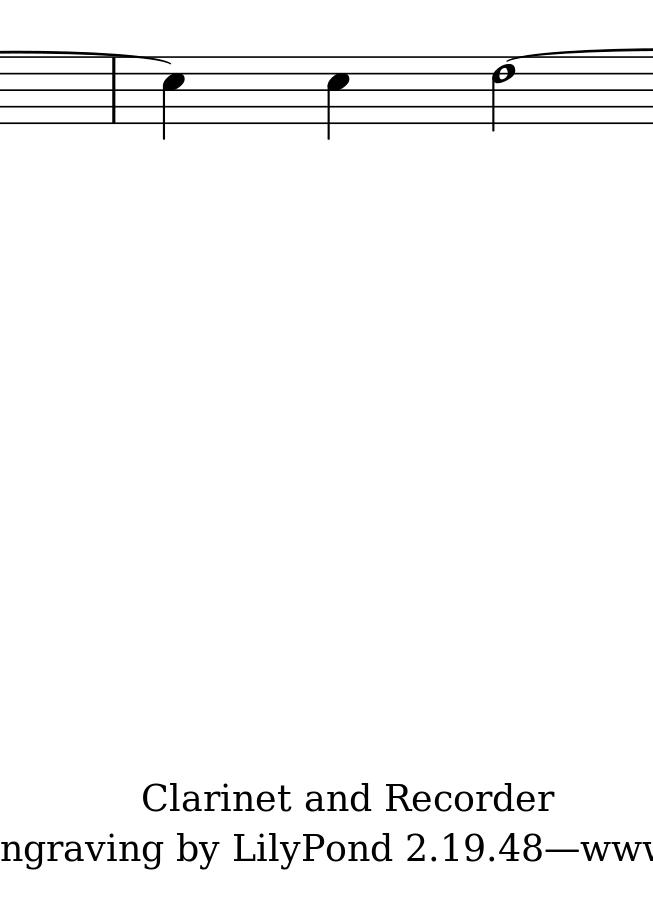2_6: (492, 54, 517, 134)
4_5: (162, 55, 187, 142), (325, 54, 350, 141)
Single_barline: (107, 58, 122, 122)
